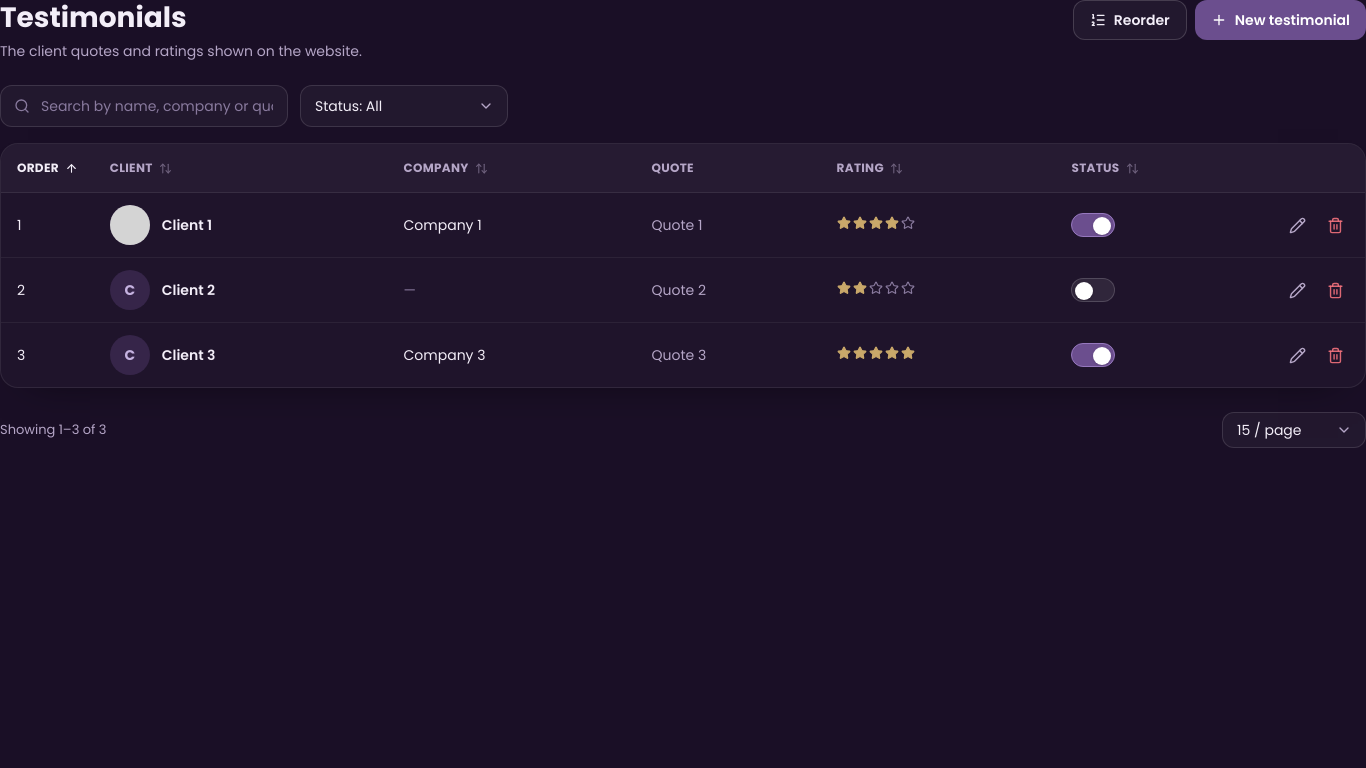
Test: TestimonialList › delete › asks first, then deletes and refreshes the list
Expected: the text "Client 2" is shown, [162,280,215,300]
Step 1. Click the button named "Delete" in the row of "Client 2" → (1335, 290), box [1317,272,1353,308]
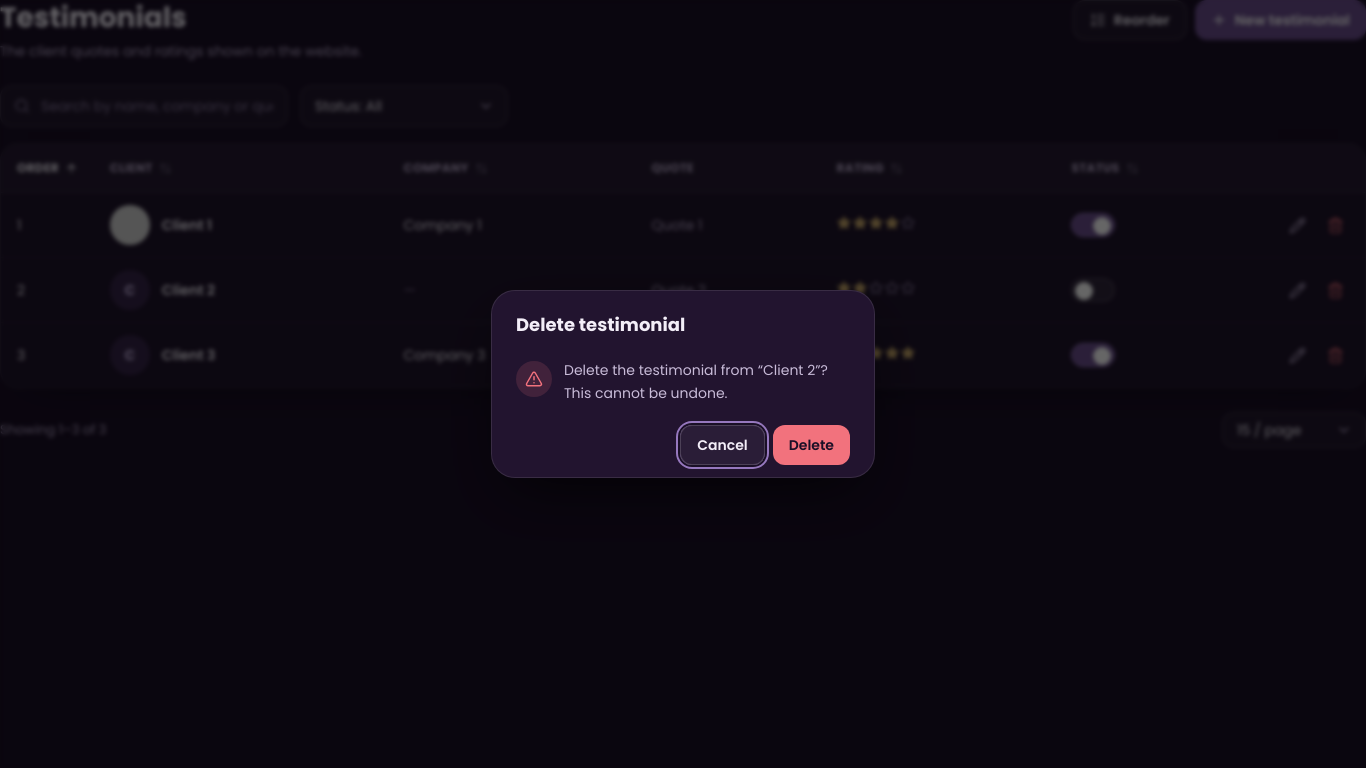
Result: the dialog "Delete testimonial" shows "Delete the testimonial from “Client 2”? This cannot be undone." at [564,360,828,403]
Step 2. Click the button "Delete" → (811, 445), box [773,425,850,465]
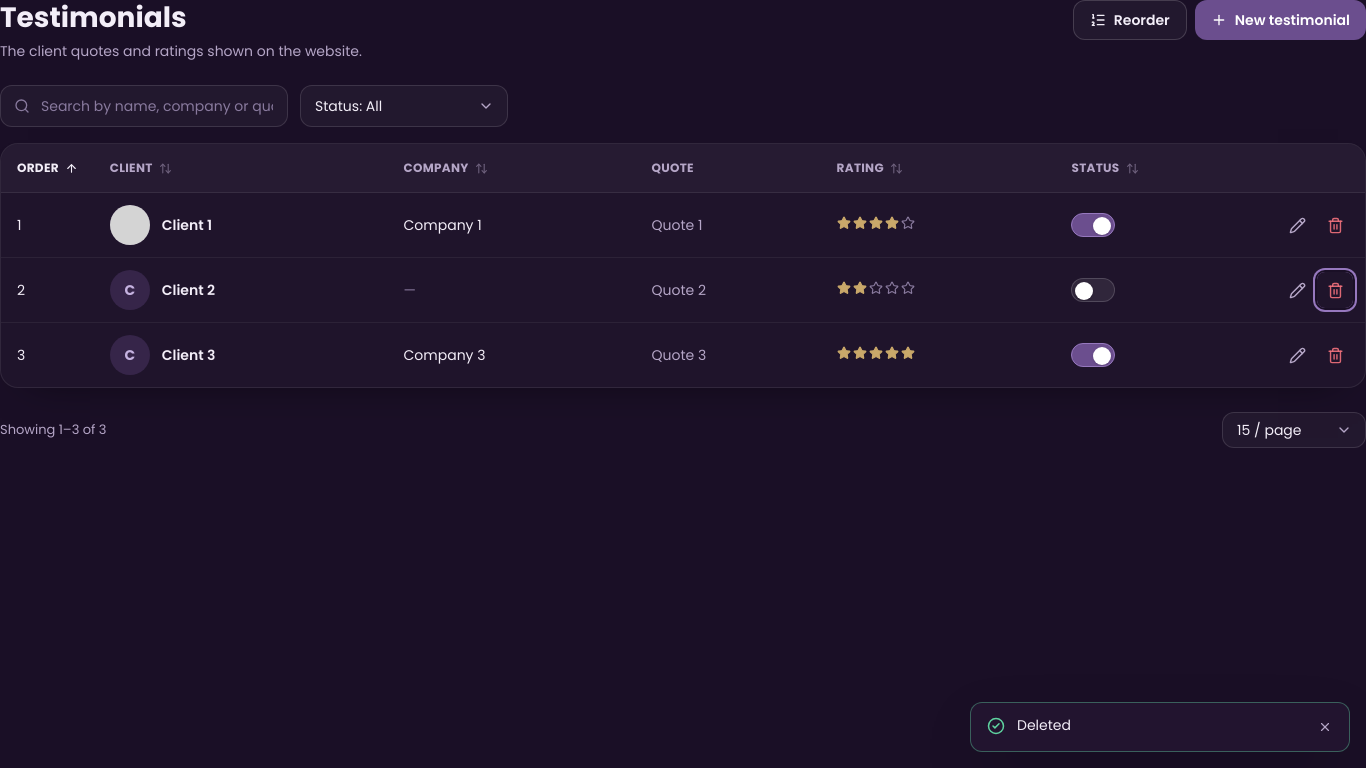
Result: the text "Deleted" is shown at [1017,715,1071,735]
